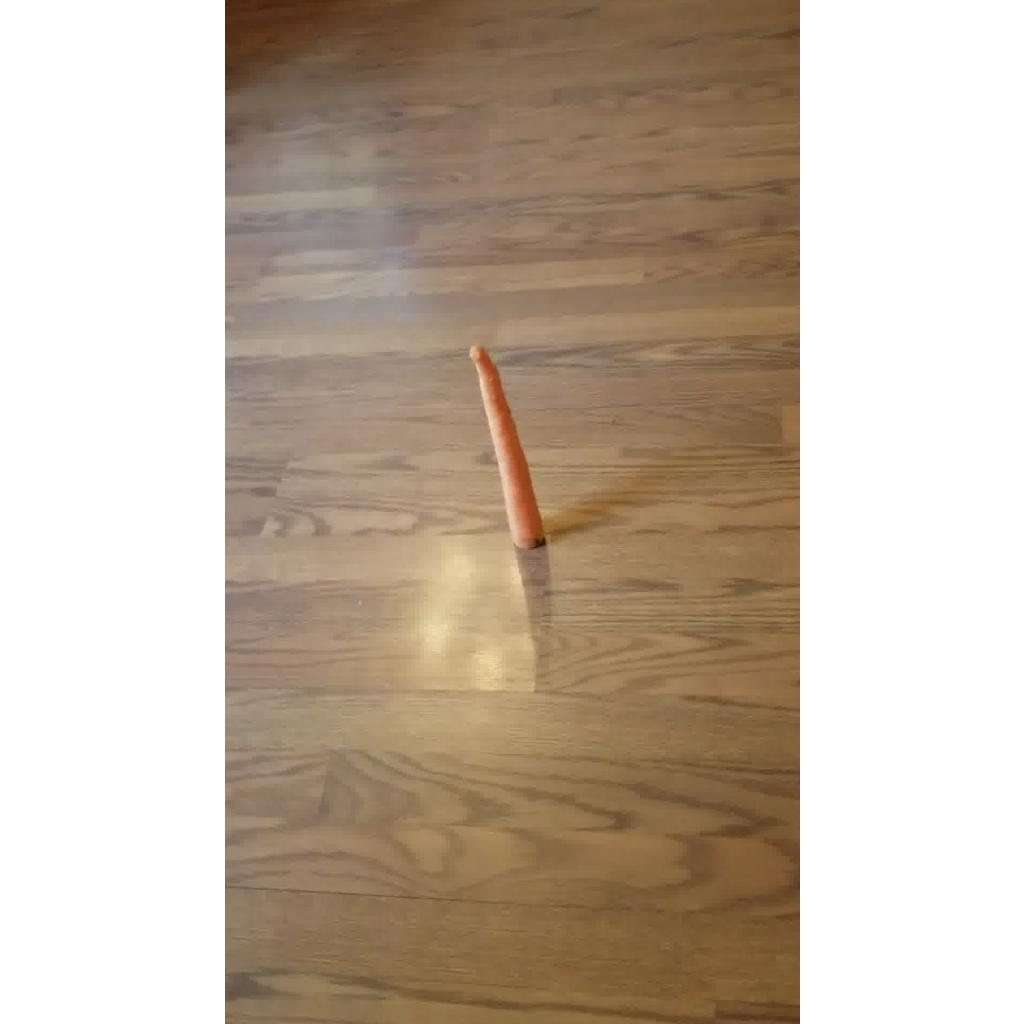carrot: (468, 346, 544, 548)
